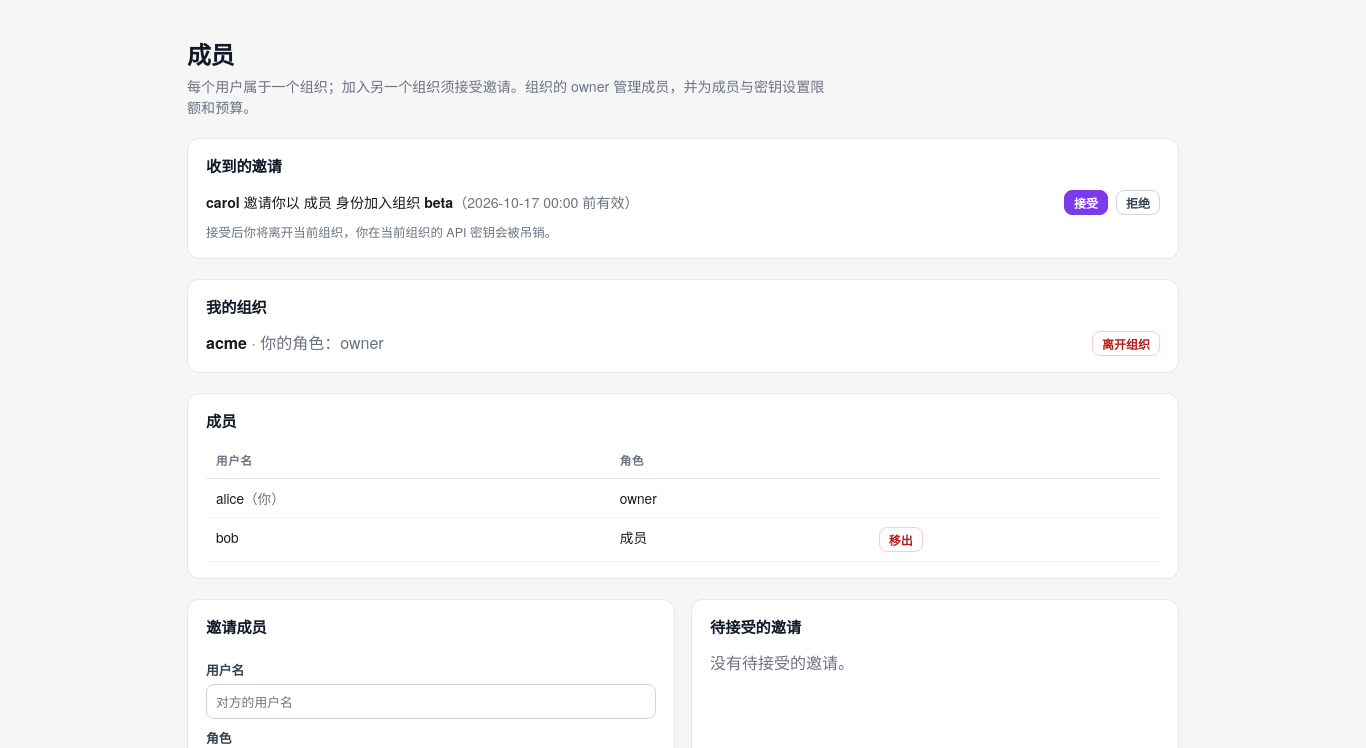
OrgView › shows an accept error
Click the button "接受": coordinates (1086, 202) [1064,190,1108,215]
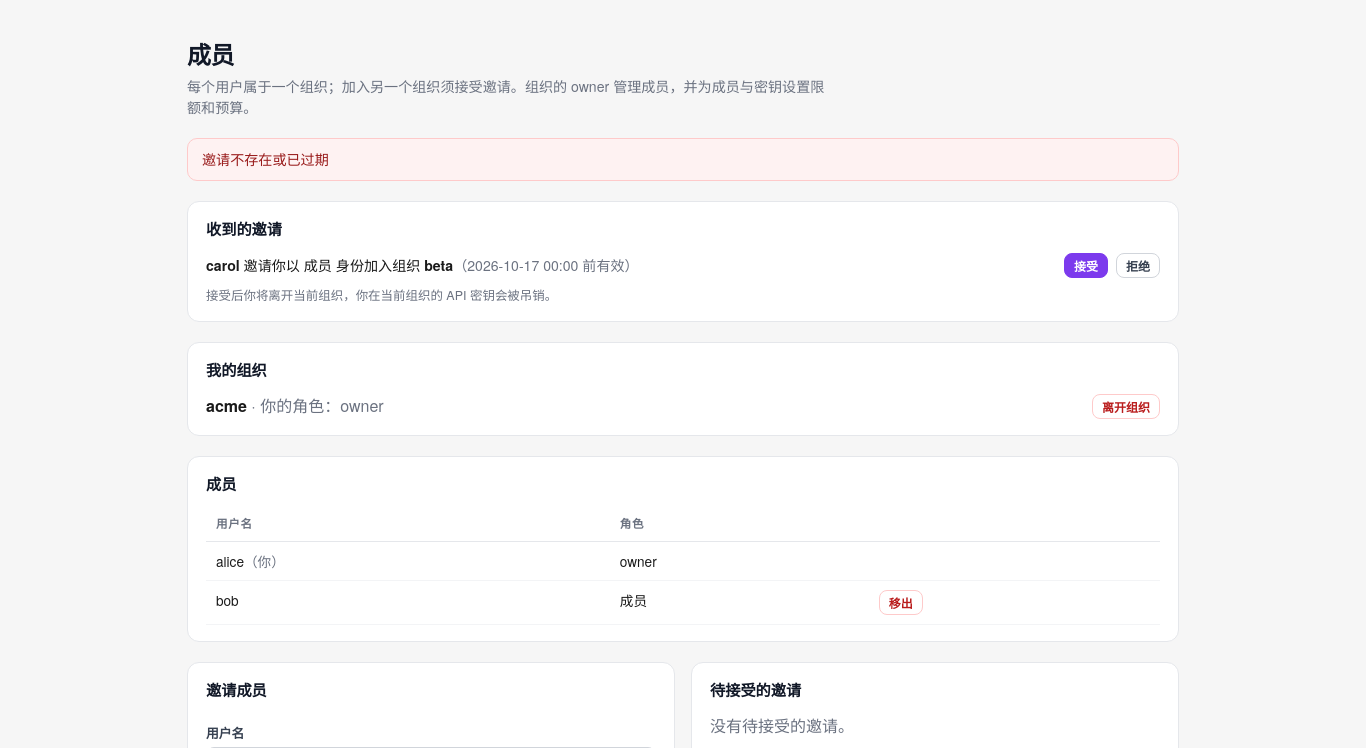
Expected: the message with test id "org-error" reads "邀请不存在或已过期", [202,149,329,169]
